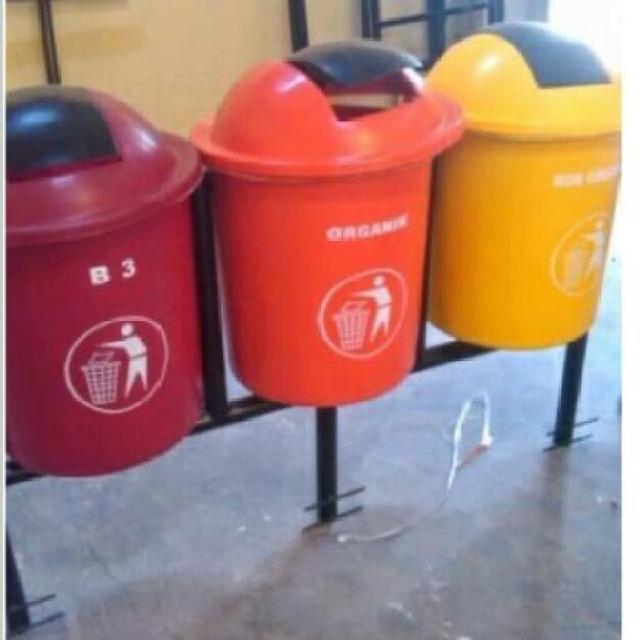garbage container: (198, 34, 464, 451), (2, 73, 205, 507), (427, 17, 621, 365)
